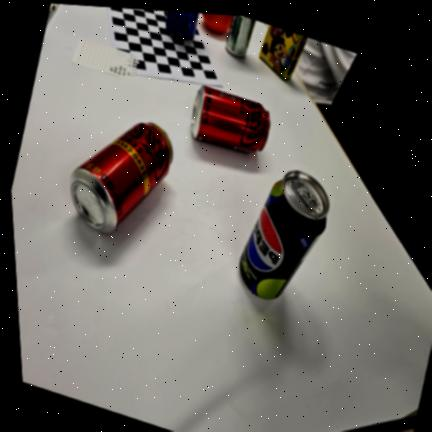can_coke_decaf: (70, 122, 172, 233)
can_coke_zero: (191, 85, 270, 153)
can_pepsi: (166, 11, 198, 41)
can_pepsi_zero: (239, 170, 329, 299)
